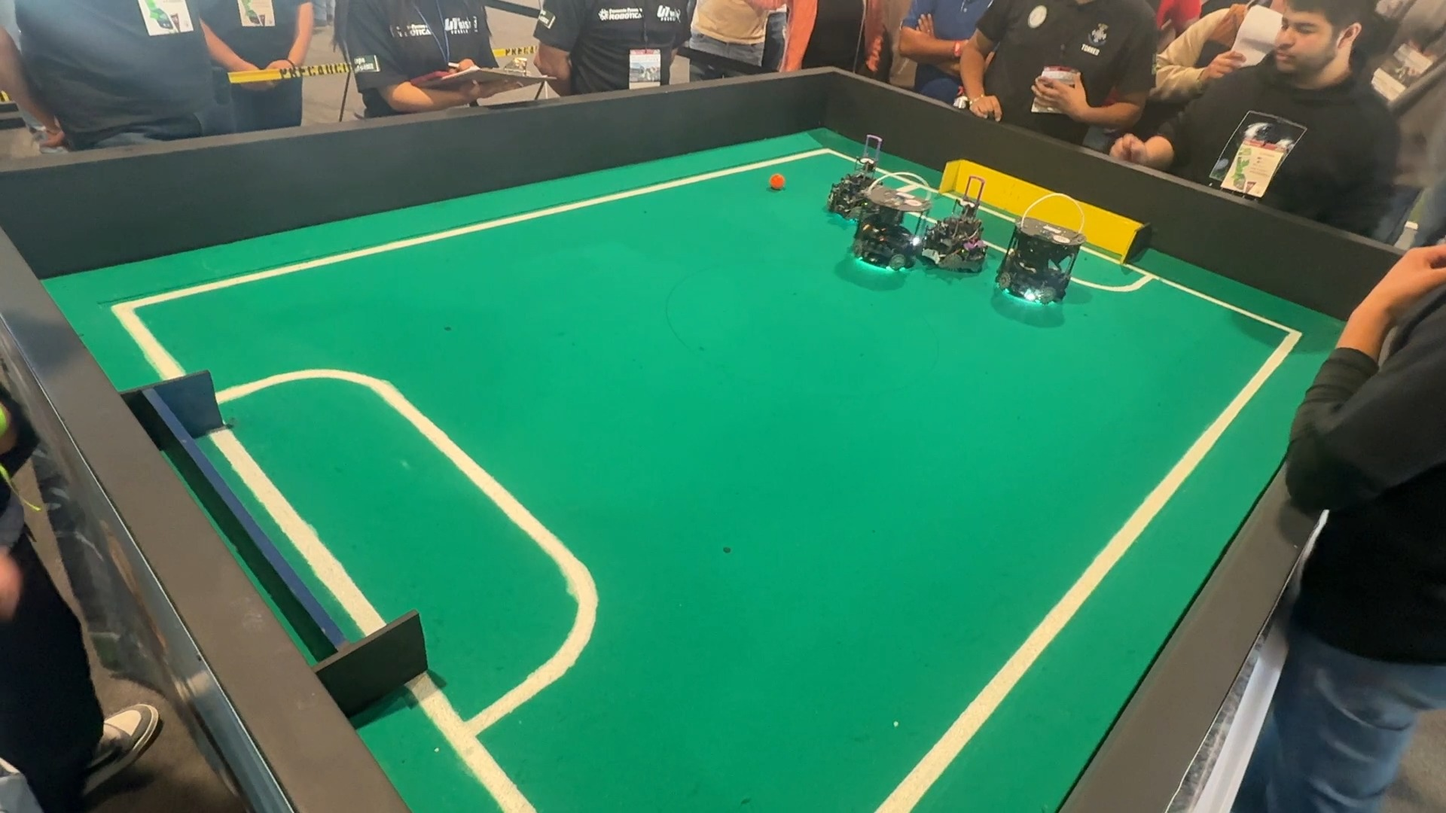Robot: (987, 213, 1103, 329), (916, 169, 1006, 290), (814, 134, 895, 228)
pelota: (762, 171, 796, 196)
